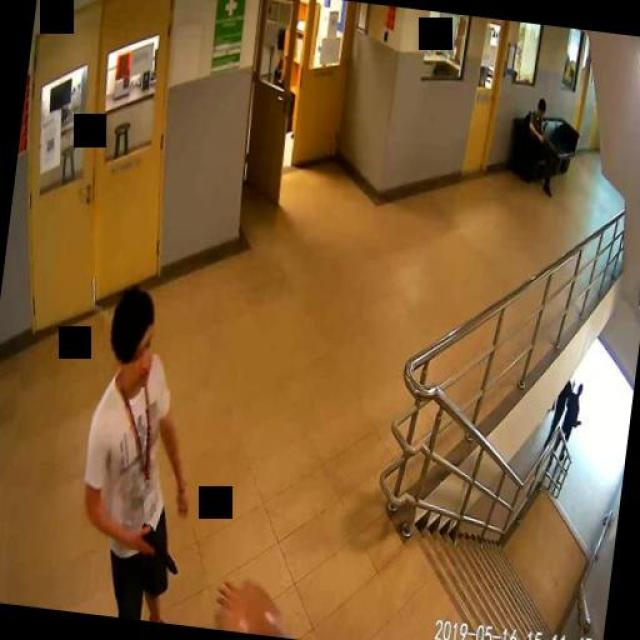gun: (136, 522, 179, 572)
